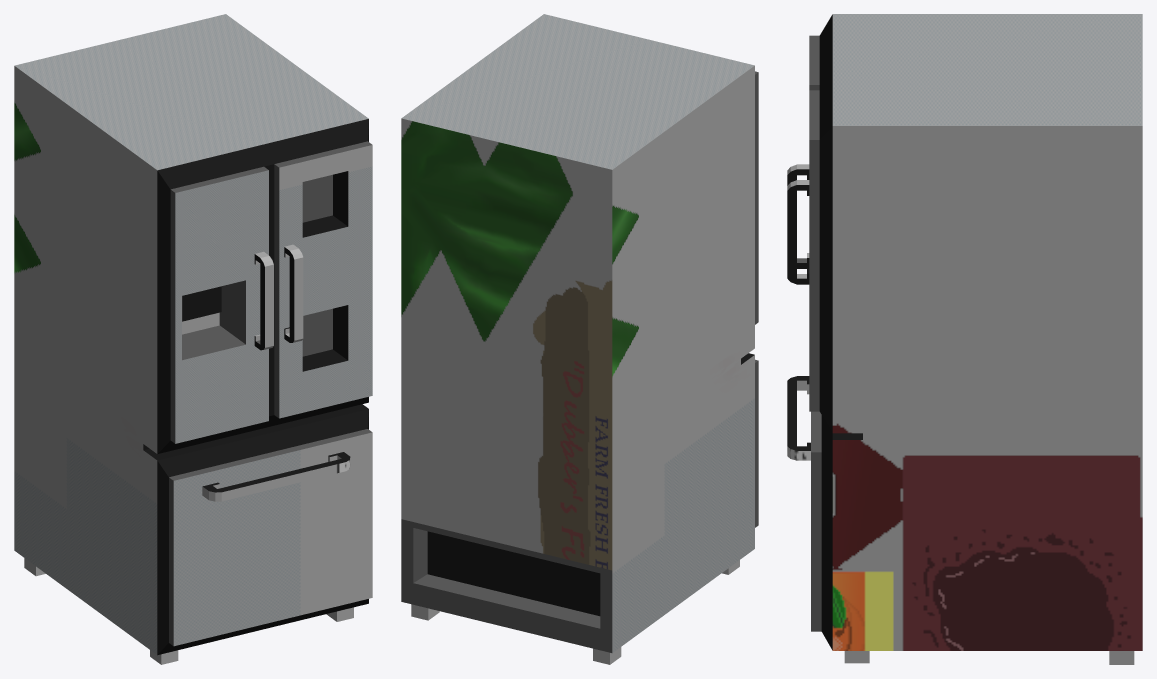
File: fridge 7.fbx
The picture shows the model from 3 angles, left to right: view 1: azimuth 30°, elevation 25°; view 2: azimuth 150°, elevation 25°; view 3: azimuth 270°, elevation 25°; orthographic projection. The views are drawn at different scales.
Parts seen in each view (by area): view 1: Cube; view 2: Cube; view 3: Cube.
Boxes of the visible parts, x1,y1,x2,y2 form: Cube: (14,14,372,664); Cube: (401,14,758,664); Cube: (787,14,1142,664).
Size of the model in its own units: 171 by 386 by 229.
